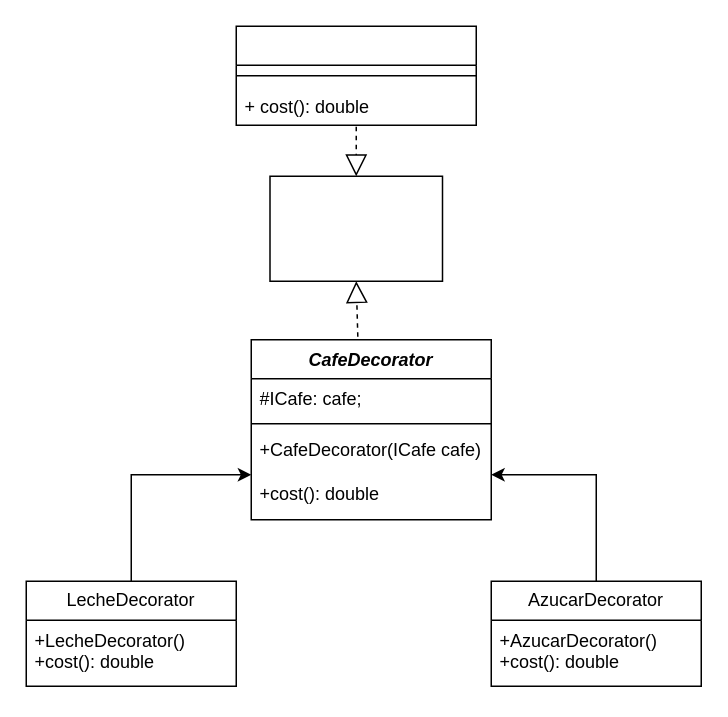
The diagram is 728 pixels wide and 717 high, and some of its shapes have lost their labels. Here are the shapes that lost their labels. From the top down, the box of each, then its label:
(235, 25, 476, 125): CafeSimple
(268, 175, 442, 281): <<Interface>> ICafe + cost(): double
